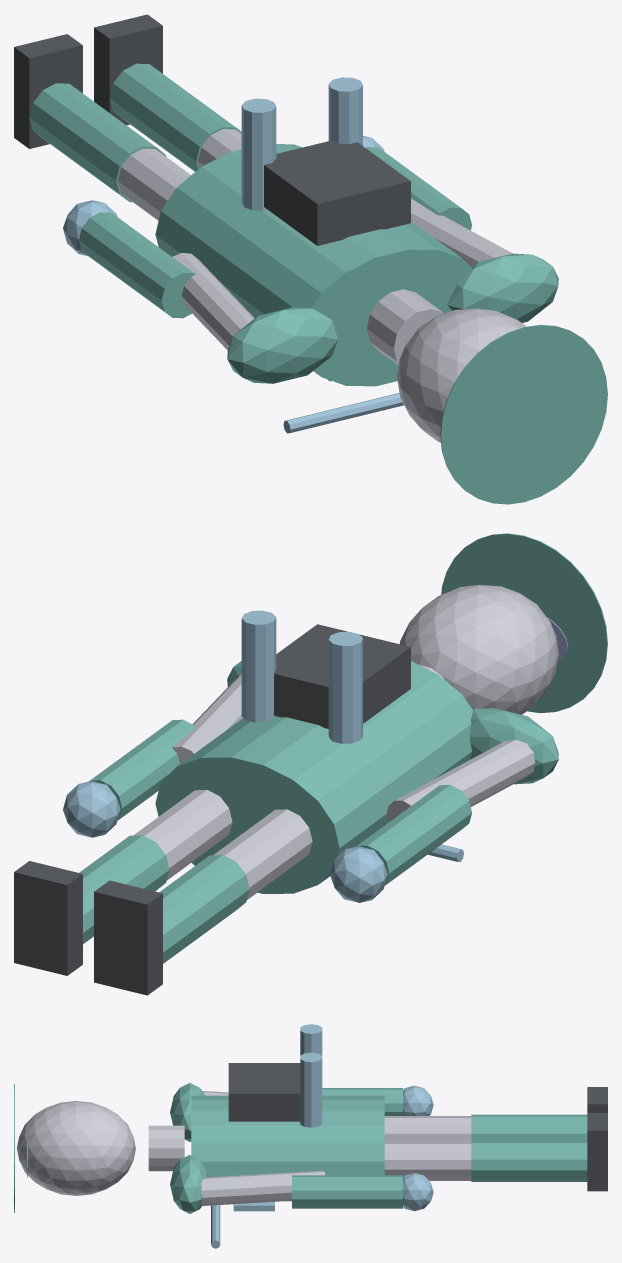
File: SWN-037_asha_loworbit.glb
3 renders of one model, top to bottom at view 1: azimuth 30°, elevation 25°; view 2: azimuth 150°, elevation 25°; view 3: azimuth 270°, elevation 25°, orthographic. The views are drawn at different scales.
Visible parts, largest first — view 1: body_spine, rank_halo_ring, back_thruster_pack, head, greave_-1, greave_1, shoulder_plate_-1, forearm_gauntlet_-1, shoulder_plate_1, boot_-1, boot_1, upper_arm_-1 (+9 smaller); view 2: body_spine, head, rank_halo_ring, back_thruster_pack, boot_-1, boot_1, greave_-1, forearm_gauntlet_-1, thigh_-1, thigh_1, upper_arm_-1, forearm_gauntlet_1 (+7 smaller); view 3: body_spine, head, greave_1, back_thruster_pack, forearm_gauntlet_1, thigh_1, greave_-1, upper_arm_1, thigh_-1, aether_thruster_1, boot_1, neck (+9 smaller).
Boxes of the visible parts, x1,y1,x2,y2 form: body_spine: (155, 144, 472, 386); rank_halo_ring: (440, 324, 607, 504); back_thruster_pack: (264, 140, 410, 245); head: (397, 308, 526, 442); greave_-1: (29, 83, 166, 202); greave_1: (109, 63, 241, 171); shoulder_plate_-1: (227, 307, 338, 383); forearm_gauntlet_-1: (79, 212, 195, 318); shoulder_plate_1: (447, 253, 558, 322); boot_-1: (14, 34, 82, 148); boot_1: (94, 14, 162, 125); upper_arm_-1: (172, 253, 254, 350); body_spine: (155, 661, 472, 893); head: (399, 584, 558, 714); rank_halo_ring: (441, 533, 607, 713); back_thruster_pack: (274, 624, 410, 728); boot_-1: (94, 880, 162, 995); boot_1: (14, 861, 82, 975); greave_-1: (159, 855, 249, 963); forearm_gauntlet_-1: (356, 785, 471, 885); thigh_-1: (213, 809, 312, 899); thigh_1: (133, 789, 232, 880); upper_arm_-1: (386, 739, 535, 822); forearm_gauntlet_1: (89, 719, 195, 820); body_spine: (191, 1095, 384, 1201); head: (17, 1101, 135, 1195); greave_1: (471, 1141, 587, 1181); back_thruster_pack: (228, 1063, 300, 1121); forearm_gauntlet_1: (292, 1175, 402, 1208); thigh_1: (384, 1142, 471, 1180); greave_-1: (471, 1114, 587, 1140); upper_arm_1: (201, 1170, 325, 1205); thigh_-1: (384, 1116, 471, 1142); aether_thruster_1: (300, 1052, 322, 1127); boot_1: (587, 1113, 607, 1191); neck: (148, 1125, 184, 1171).
Size of the model in its own units: 0.9932 by 0.758 by 2.3.
